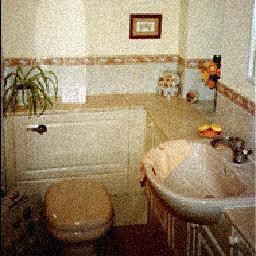Lavamanos: (139, 136, 241, 222)
Sanitario: (38, 170, 111, 254)
